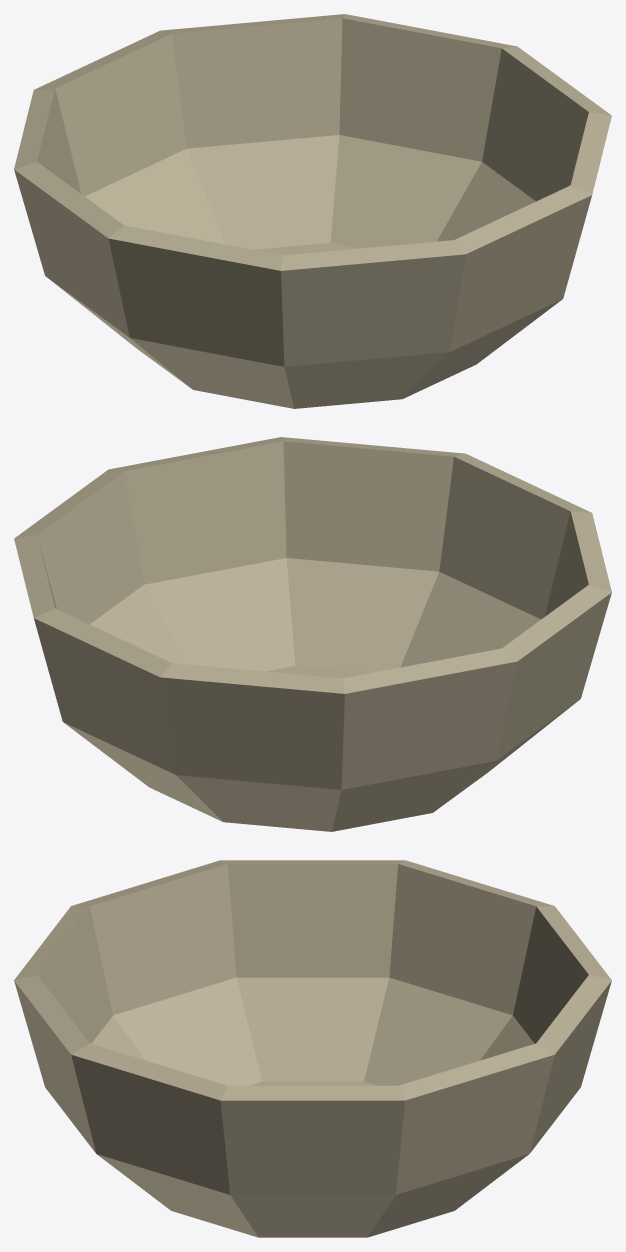
Rendered from Bowl.glb.
3 renders of one model, top to bottom at view 1: azimuth 30°, elevation 25°; view 2: azimuth 150°, elevation 25°; view 3: azimuth 270°, elevation 25°, orthographic. The views are drawn at different scales.
Visible parts, largest first — view 1: Bowl.001; view 2: Bowl.001; view 3: Bowl.001.
Boxes of the visible parts, x1,y1,x2,y2 form: Bowl.001: (14, 14, 611, 408); Bowl.001: (14, 437, 611, 831); Bowl.001: (14, 860, 611, 1237).
Bounding box in the file's own units: 0.2624 × 0.098 × 0.2759.
Materials: 1 (1 with a texture image).
